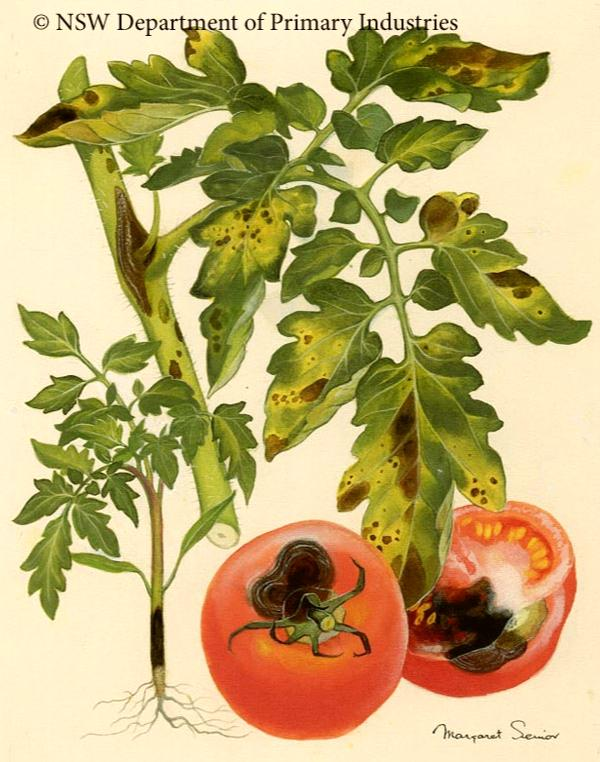Tomato Early blight leaf: (363, 332, 522, 610), (401, 180, 600, 353), (14, 22, 241, 161), (191, 155, 290, 387), (261, 283, 376, 456), (339, 24, 552, 108)
